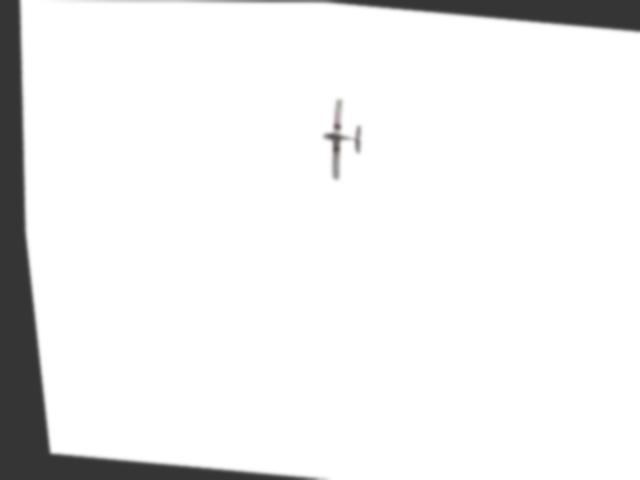uav: (311, 94, 369, 183)
